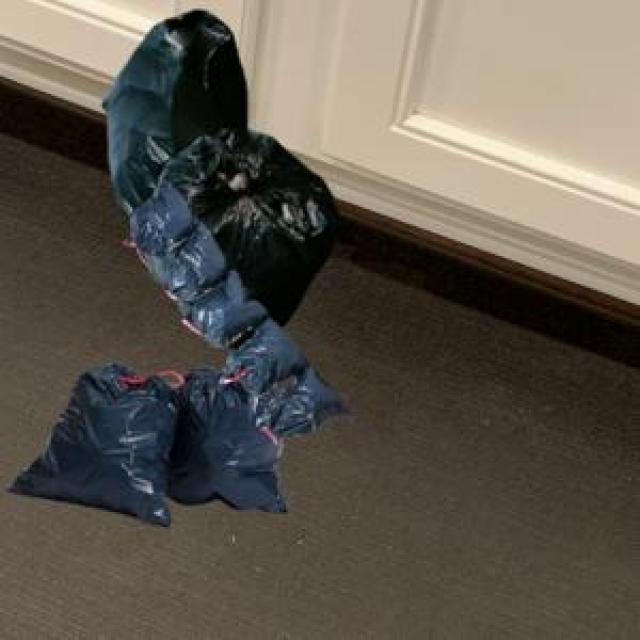Trashbag: (9, 361, 183, 527), (104, 9, 247, 194), (176, 391, 286, 516), (278, 370, 344, 436), (232, 329, 300, 390), (133, 188, 192, 254), (173, 232, 228, 296), (200, 282, 255, 345)
